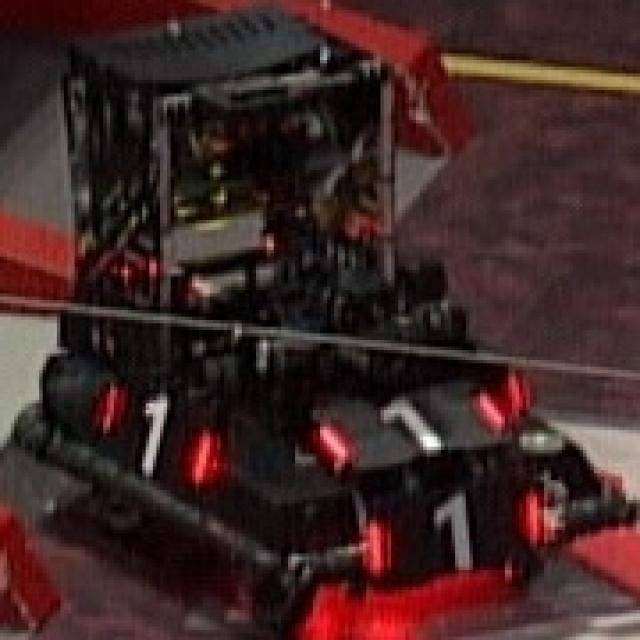R1: (359, 487, 544, 573), (96, 373, 217, 490), (316, 390, 508, 463)
